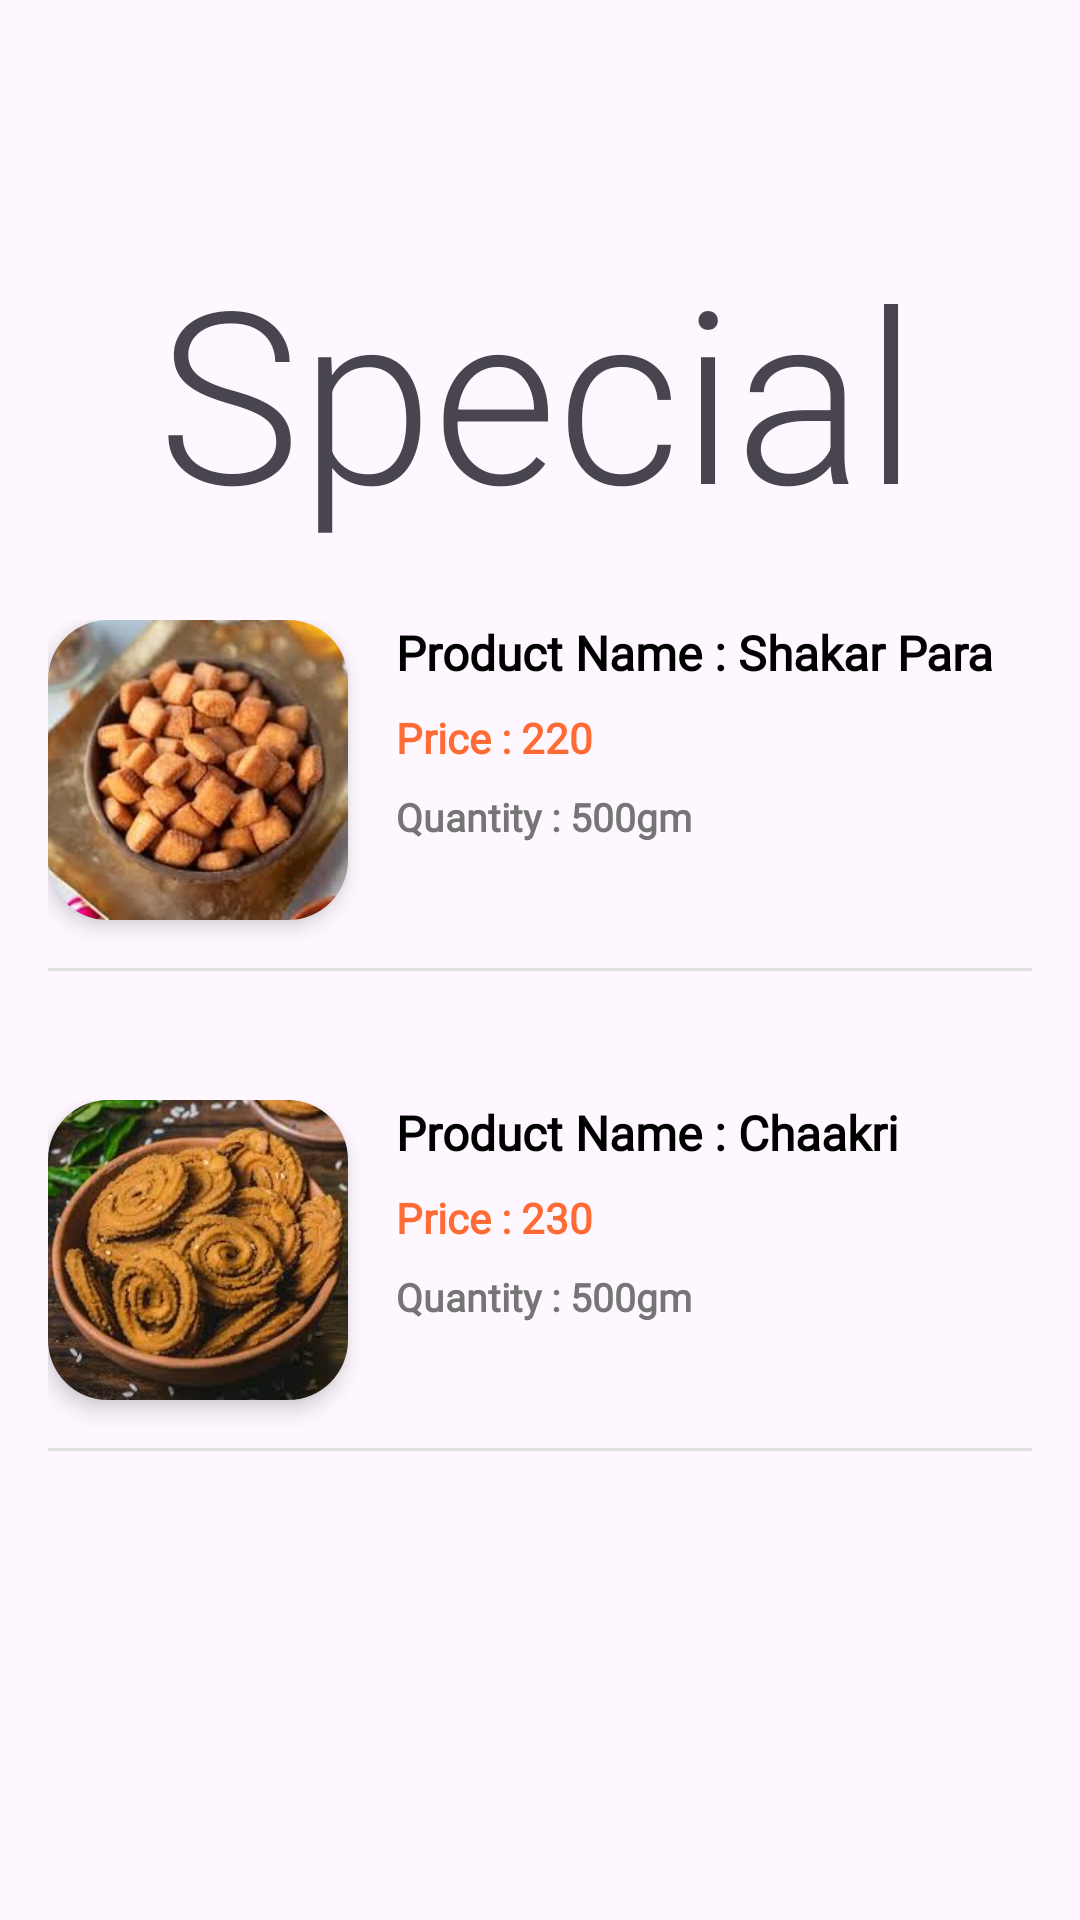

Point at icon controls on the screen. Image size 1080px×1920px, points as (x,y).
chakri: (198,1250)
sakkar para: (198,770)
